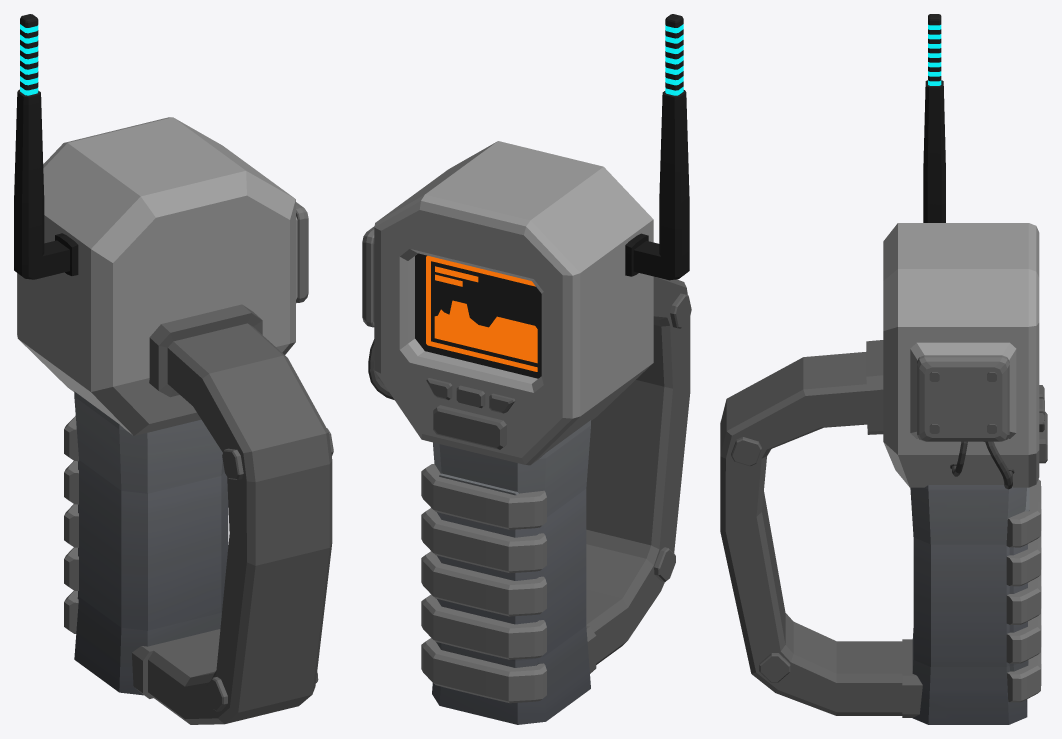
Rendered from Item_Scanner.glb.
3 renders of one model, left to right at view 1: azimuth 30°, elevation 25°; view 2: azimuth 150°, elevation 25°; view 3: azimuth 270°, elevation 25°, orthographic. The views are drawn at different scales.
Visible parts, largest first — view 1: Item_Scanner; view 2: Item_Scanner; view 3: Item_Scanner.
Part boxes in pixels (x1,y1,x2,y2): Item_Scanner: (14, 14, 333, 724); Item_Scanner: (362, 14, 691, 724); Item_Scanner: (720, 14, 1047, 724).
Bounding box in the file's own units: 0.525 × 1.22 × 0.5819.
Materials: 5 (2 with a texture image).
